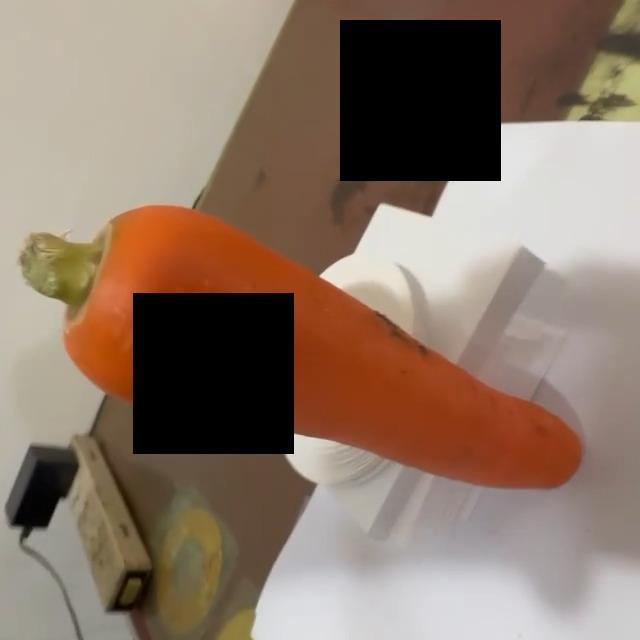carrot: (21, 204, 582, 496)
